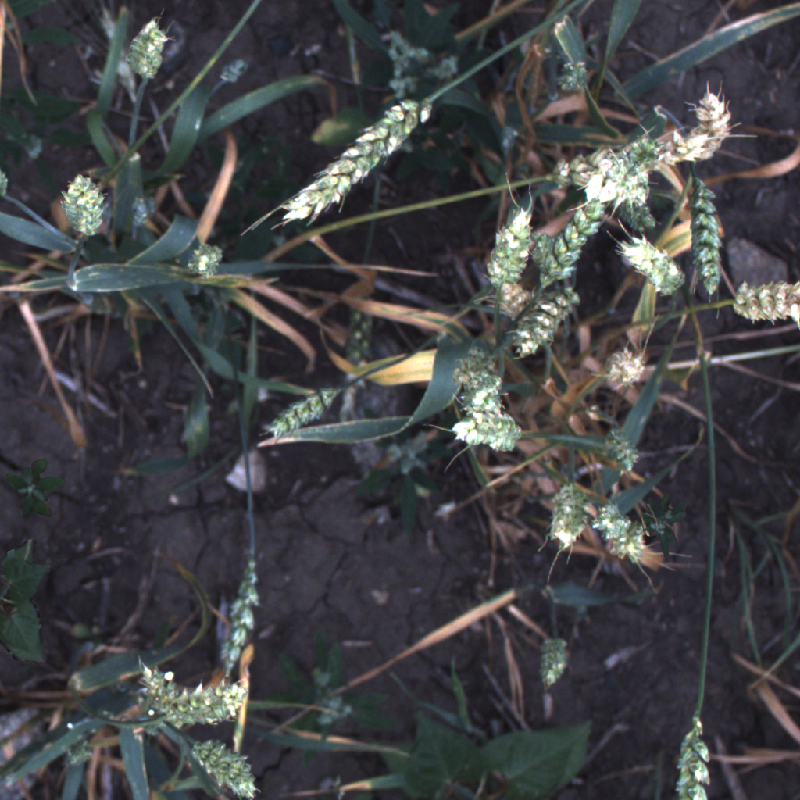spikelet: (278, 89, 427, 235), (547, 125, 708, 189), (529, 191, 609, 300), (178, 732, 268, 800), (686, 170, 730, 303), (507, 278, 578, 360), (332, 278, 377, 403), (258, 378, 342, 443), (481, 196, 535, 295), (612, 231, 686, 303), (217, 562, 261, 678), (151, 677, 248, 728), (734, 265, 800, 333), (594, 131, 671, 189), (672, 715, 724, 799), (544, 475, 595, 556), (608, 180, 669, 246), (587, 497, 647, 564), (689, 80, 733, 167), (450, 406, 523, 451), (445, 335, 501, 389), (132, 659, 182, 716), (58, 172, 103, 235), (127, 16, 172, 77), (600, 416, 647, 473), (530, 633, 574, 692), (600, 344, 657, 389), (178, 238, 232, 282), (463, 370, 507, 423), (550, 59, 591, 92), (217, 56, 248, 83)
weed: (1, 539, 52, 664), (632, 486, 707, 561), (6, 459, 64, 519)
